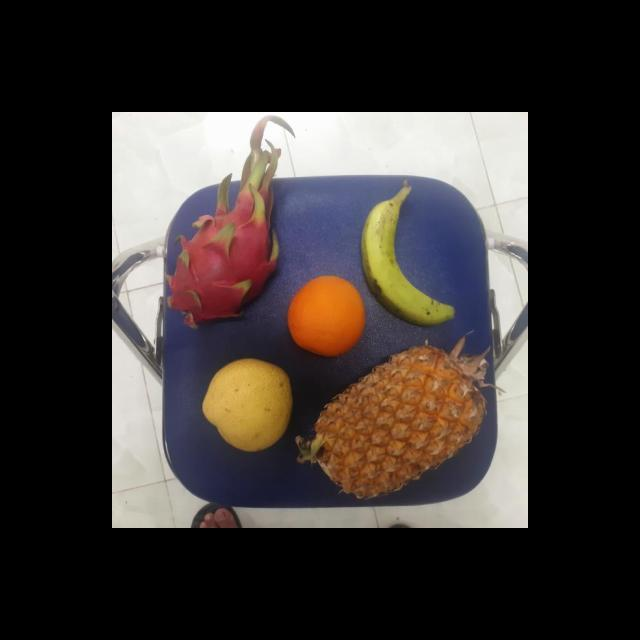banana: (359, 198, 461, 330)
orange: (286, 274, 366, 358)
pear: (198, 357, 296, 451)
pineapple: (317, 342, 488, 503)
pitaya: (166, 200, 282, 324)
